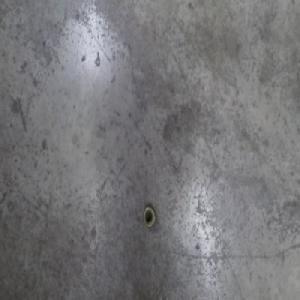Nut: (142, 203, 156, 230)
